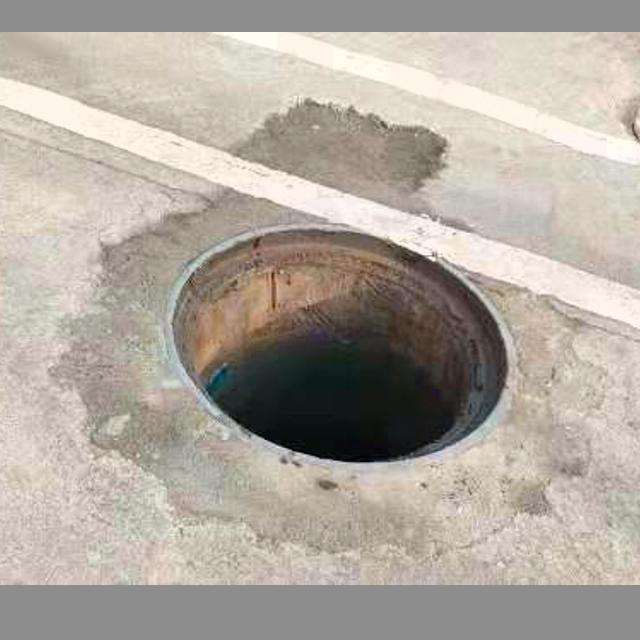lose: (173, 218, 522, 479)
